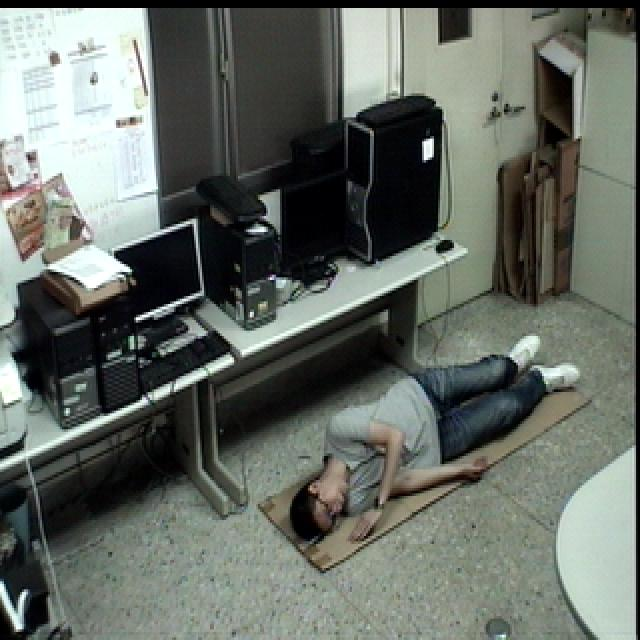lie: (286, 324, 586, 552)
